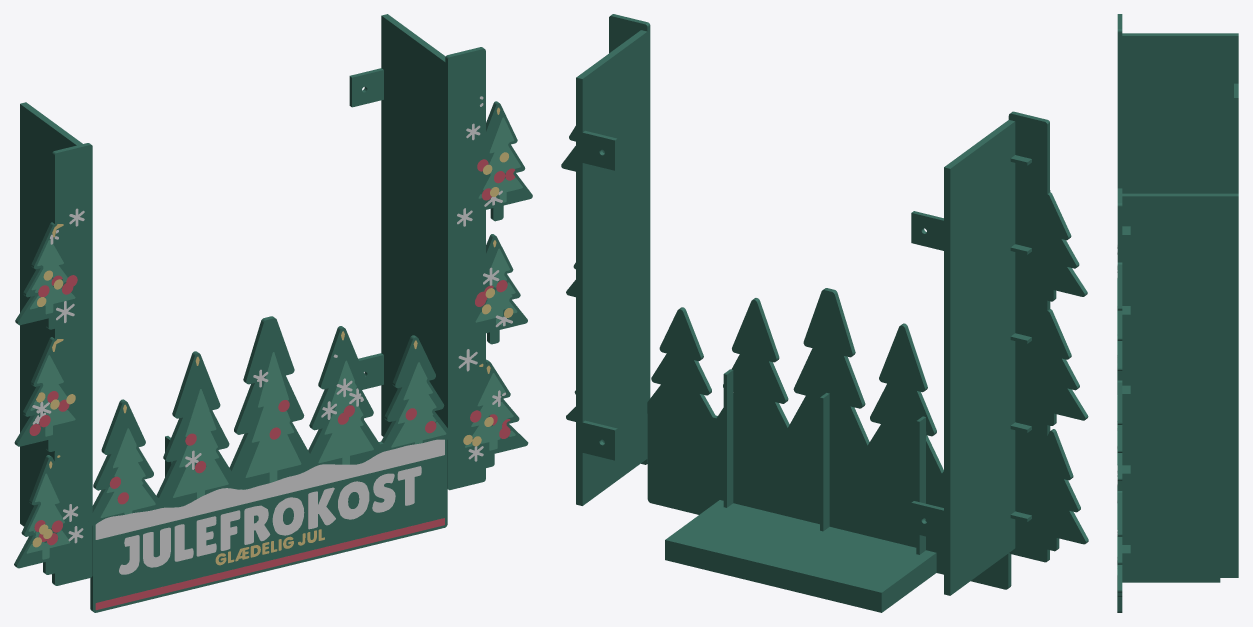
Rendered from parts.glb.
3 renders of one model, left to right at view 1: azimuth 30°, elevation 25°; view 2: azimuth 150°, elevation 25°; view 3: azimuth 270°, elevation 25°, orthographic. The views are drawn at different scales.
Visible parts, largest first — view 1: wing_right__base, topper__base, wing_left__base, topper__snow, topper__pine, wing_right__pine, topper__red, wing_left__pine, wing_left__red, wing_right__snow, wing_right__red, topper__gold (+3 smaller); view 2: topper__base, wing_left__base, wing_right__base; view 3: wing_right__base, wing_left__base, topper__base, wing_right__pine.
Part boxes in pixels (<box>): wing_right__base: <box>349,14,532,490</box>; topper__base: <box>87,316,452,612</box>; wing_left__base: <box>14,102,92,585</box>; topper__snow: <box>95,354,444,574</box>; topper__pine: <box>100,352,446,517</box>; wing_right__pine: <box>465,117,522,450</box>; topper__red: <box>95,400,444,610</box>; wing_left__pine: <box>26,240,75,559</box>; wing_left__red: <box>29,275,77,545</box>; wing_right__snow: <box>457,96,512,461</box>; wing_right__red: <box>470,159,515,438</box>; topper__gold: <box>123,331,417,565</box>; topper__base: <box>647,288,1011,612</box>; wing_left__base: <box>911,111,1088,595</box>; wing_right__base: <box>561,14,650,505</box>; wing_right__base: <box>1117,188,1238,597</box>; wing_left__base: <box>1117,14,1238,193</box>; topper__base: <box>1117,358,1220,612</box>; wing_right__pine: <box>1117,279,1117,575</box>.
Bounding box in the file's own units: 327 × 284 × 73.
